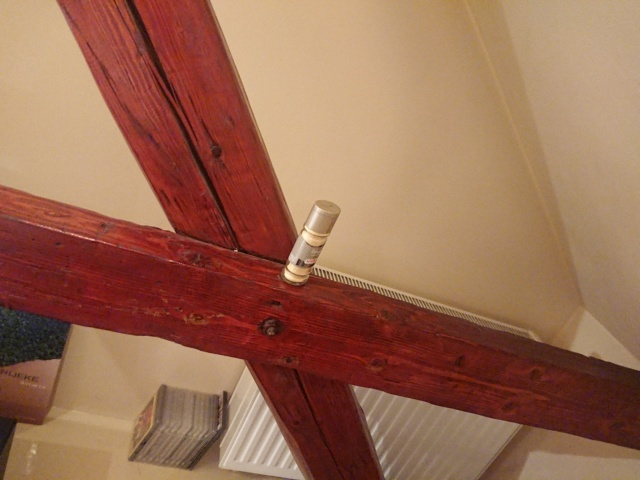Kotanyi Garlic Granules 70g: (279, 197, 343, 288)
